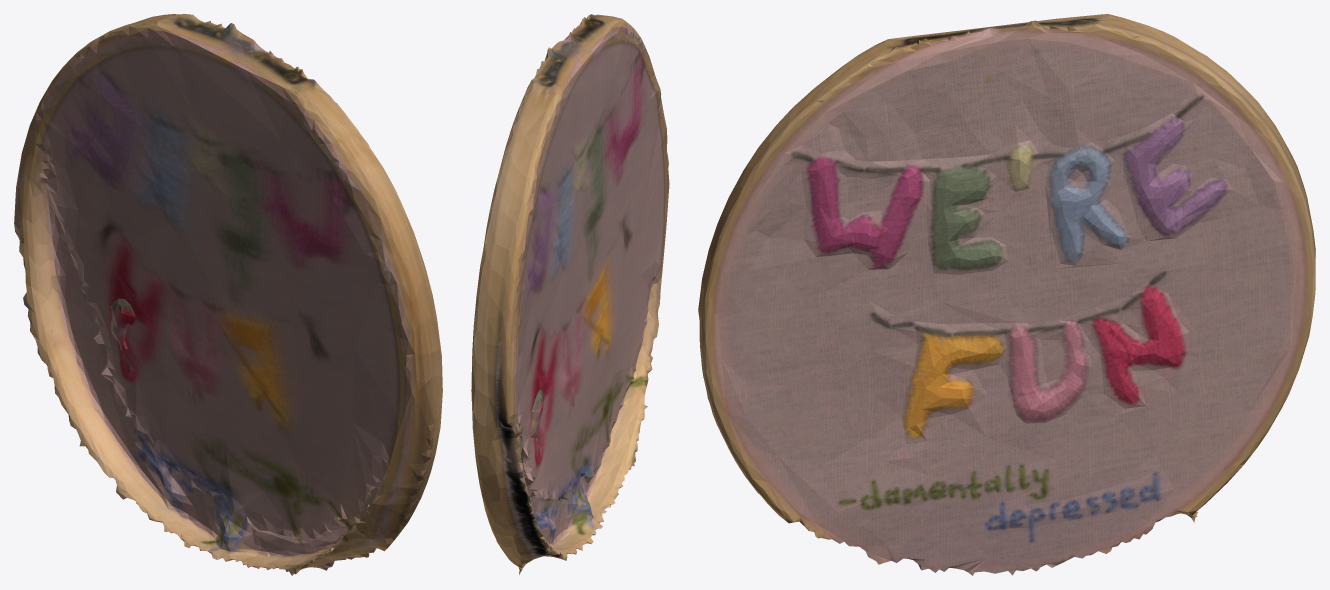
3 renders of one model, left to right at view 1: azimuth 30°, elevation 25°; view 2: azimuth 150°, elevation 25°; view 3: azimuth 270°, elevation 25°, orthographic. The views are drawn at different scales.
Parts seen in each view (by area): view 1: Stickerei We are fun_5k_2k; view 2: Stickerei We are fun_5k_2k; view 3: Stickerei We are fun_5k_2k.
Part boxes in pixels (<box>): Stickerei We are fun_5k_2k: <box>14,14,442,575</box>; Stickerei We are fun_5k_2k: <box>471,14,669,574</box>; Stickerei We are fun_5k_2k: <box>698,14,1315,575</box>.
Bounding box in the file's own units: 0.0495 × 0.167 × 0.1679.
Materials: 1 (1 with a texture image).
